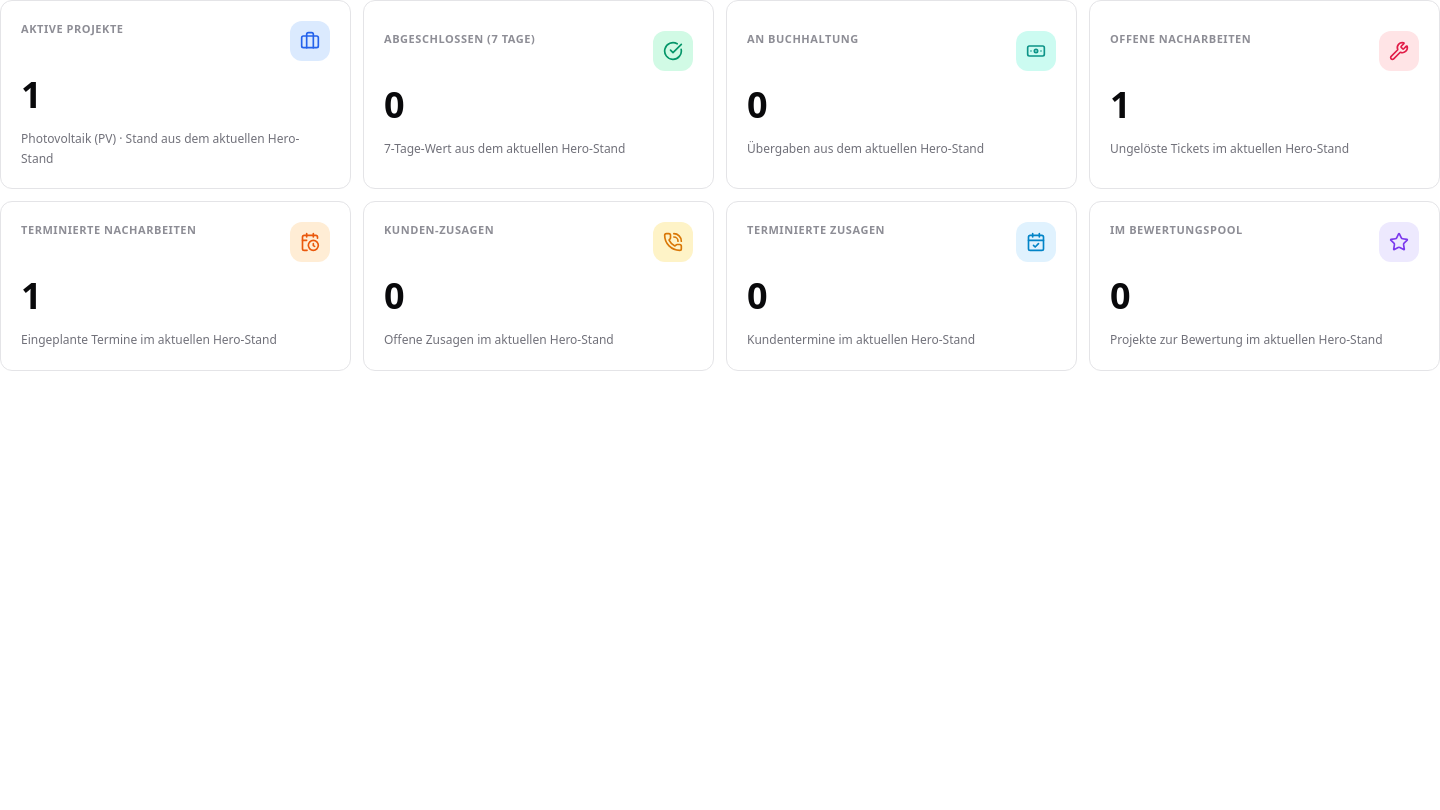
Scenario: DashboardKpiDialog › opens an in-place dialog with the matching KPI project rows
This screenshot has width=1440, height=810.
Click the button "Aktive Projekte": x=72, y=28 x1=0 y1=0 x2=351 y2=189
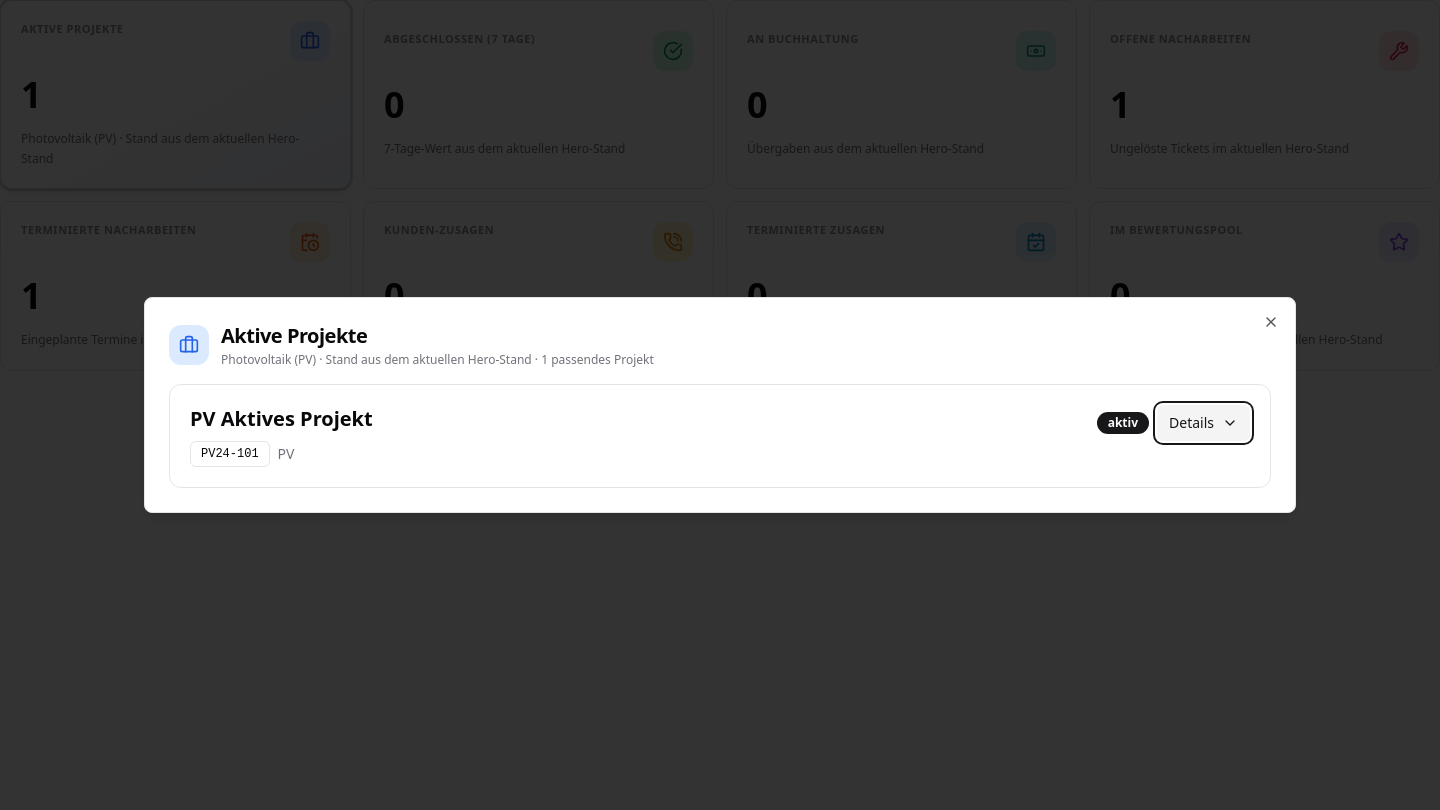
Now the heading "Aktive Projekte" is shown, box x1=221 y1=322 x2=367 y2=349
Now the text "1 passendes Projekt" is shown, box x1=221 y1=351 x2=654 y2=368
Now the text "PV Aktives Projekt" is shown, box x1=190 y1=405 x2=373 y2=432
Click the button with aria-label "Details zu PV Aktives Projekt": x=1204, y=423 x1=1157 y1=405 x2=1250 y2=441
(page scrolled)
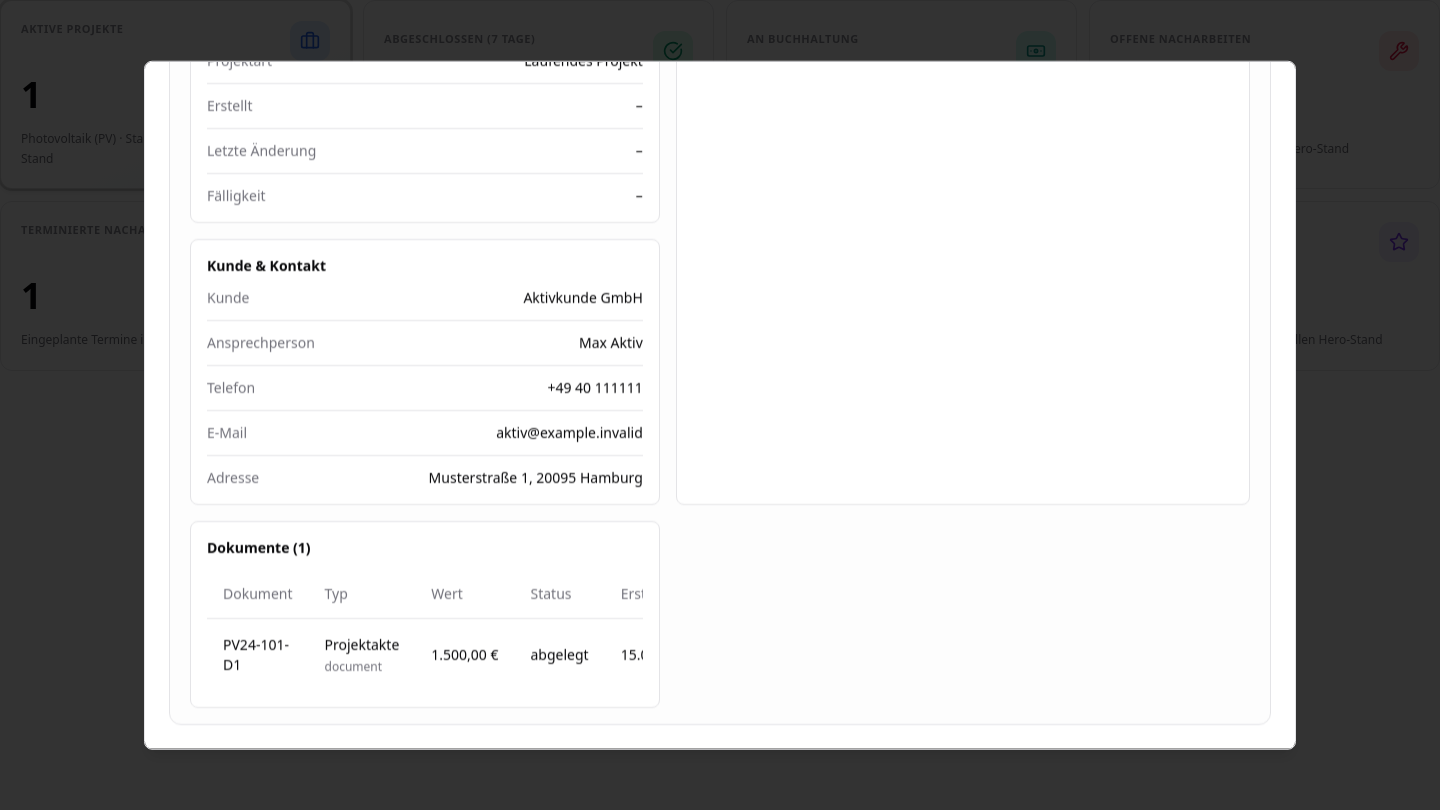
Now the text "Kunde & Kontakt" is shown, box x1=207 y1=256 x2=326 y2=275
Now the text "PV24-101-D1" is shown, box x1=223 y1=634 x2=292 y2=674
